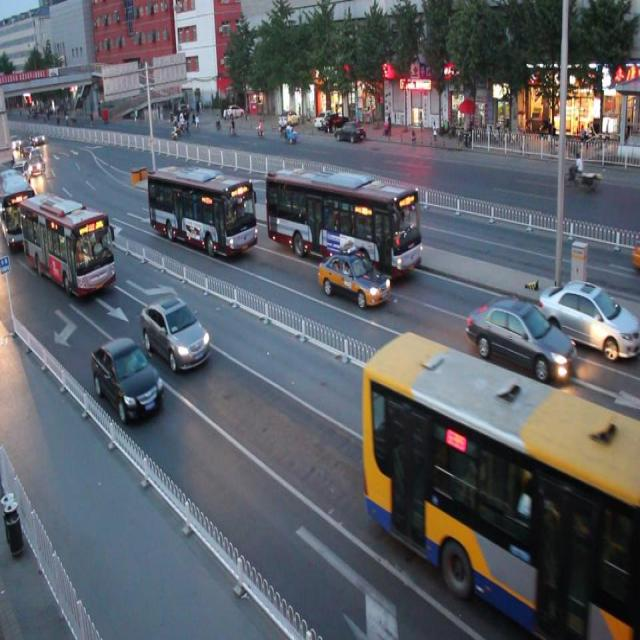car: (464, 294, 574, 383), (537, 278, 640, 364), (91, 334, 164, 424), (140, 291, 210, 373), (316, 245, 391, 312), (180, 166, 219, 200)
van: (360, 329, 640, 639), (264, 164, 422, 278), (148, 162, 259, 258), (21, 191, 118, 296)
